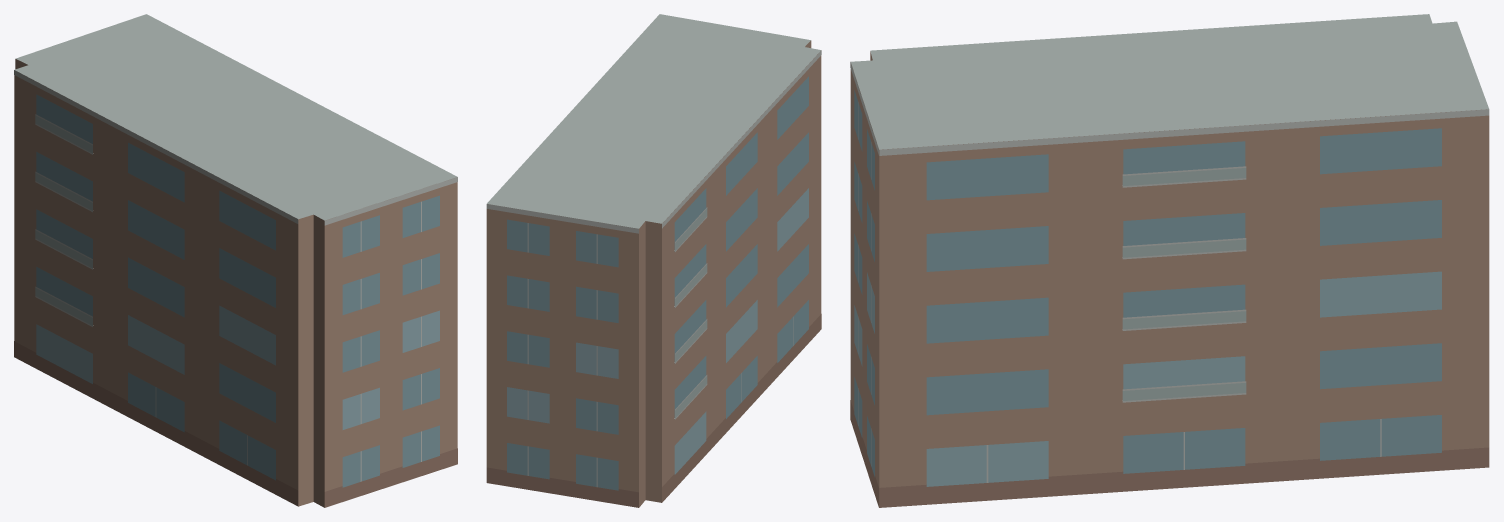
The model's file is survey-upis-32745528.glb.
3 views of the same model, side by side, from view 1: azimuth 30°, elevation 25°; view 2: azimuth 150°, elevation 25°; view 3: azimuth 270°, elevation 25° (orthographic). The views are drawn at different scales.
Parts seen in each view (by area): view 1: survey-upis-32745528.tmp; view 2: survey-upis-32745528.tmp; view 3: survey-upis-32745528.tmp.
Part boxes in pixels (box(x1,y1,x2,y2)): survey-upis-32745528.tmp: box(14, 14, 457, 507); survey-upis-32745528.tmp: box(486, 14, 821, 507); survey-upis-32745528.tmp: box(850, 14, 1489, 507).
Size of the model in its own units: 11.22 by 13.8 by 22.31.
